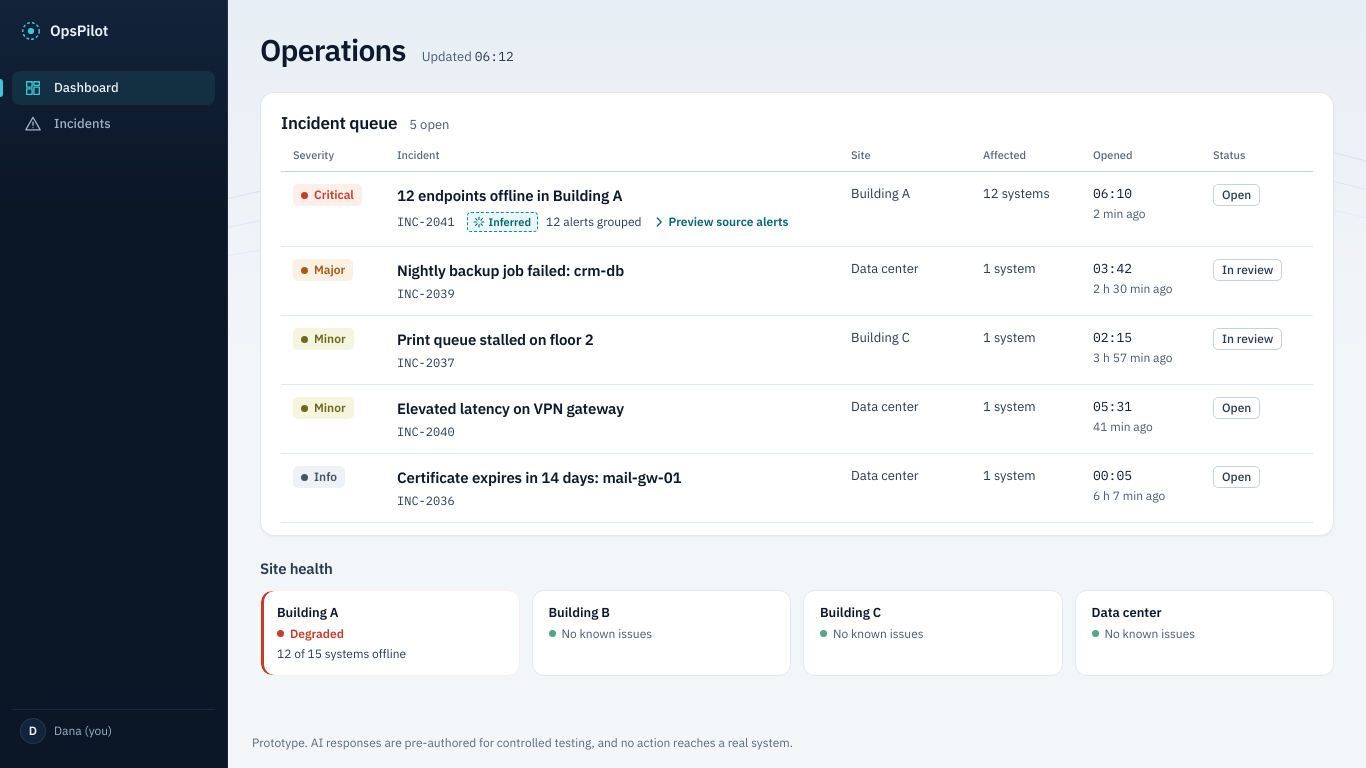
Test: Dashboard: source alerts › View all opens a named panel with all 12 alerts; Escape closes it and returns focus
Step 1. Click the button "Preview source alerts" → (722, 222), box 650,210 -> 795,234
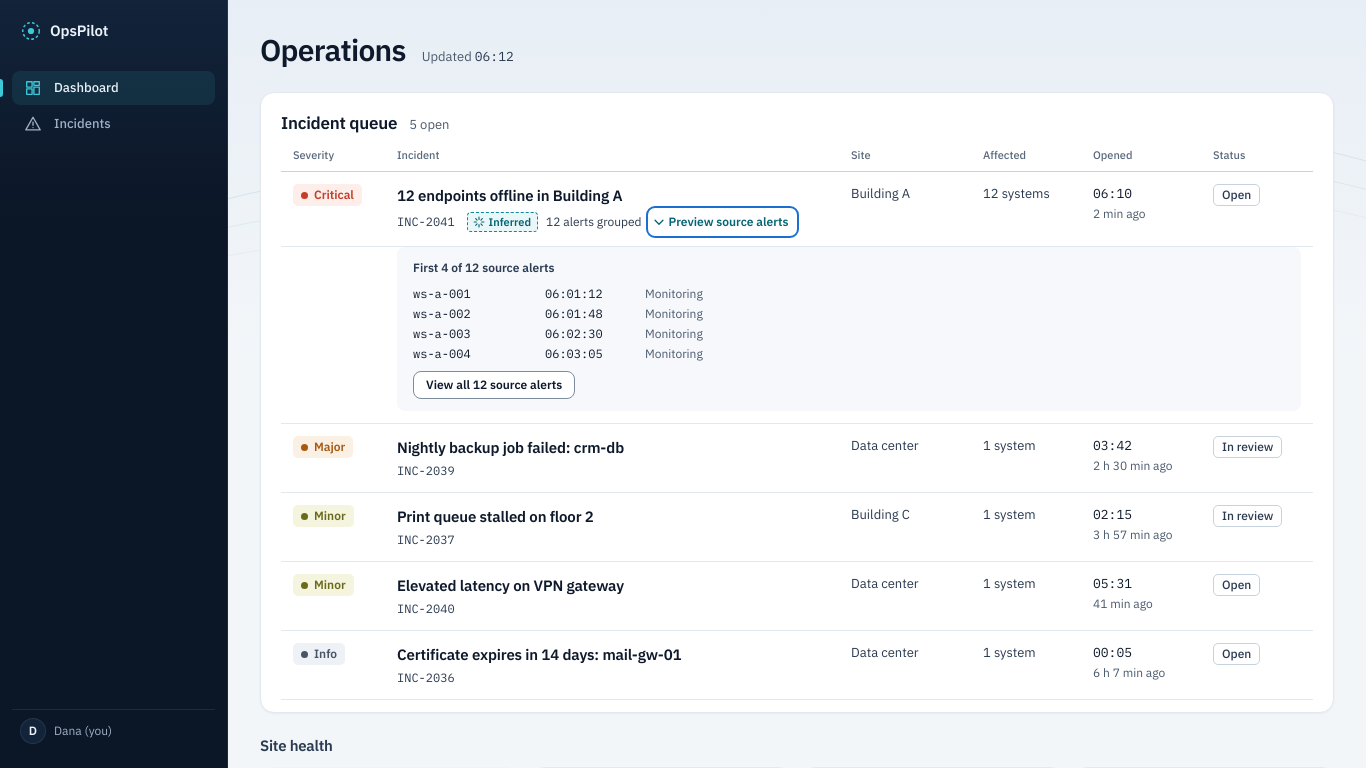
Step 2. Click the button "View all 12 source alerts" → (494, 385), box 413,371 -> 575,399
(page scrolled)
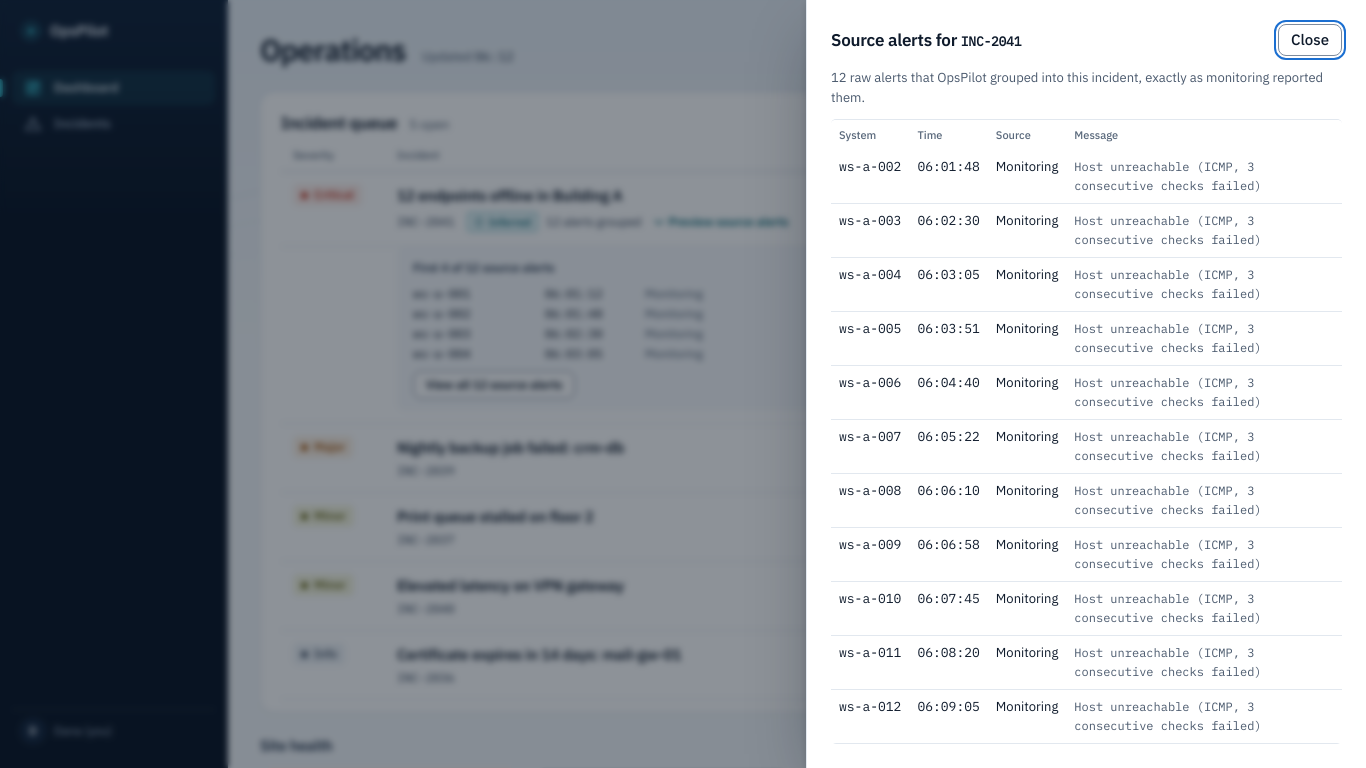
Expected: the row that starts with "ws-a-012" is shown, 839,698 -> 901,714
Step 3. Press Escape
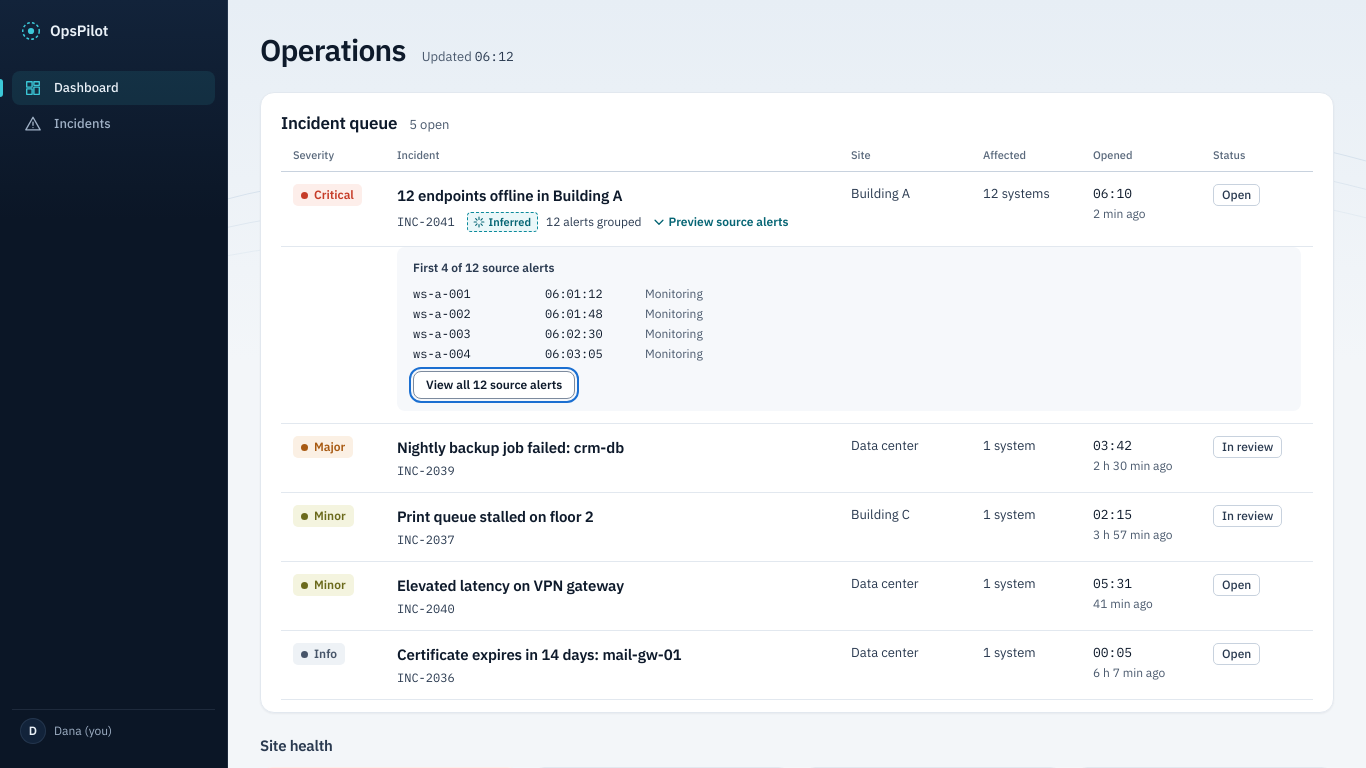
Expected: the dialog is gone
